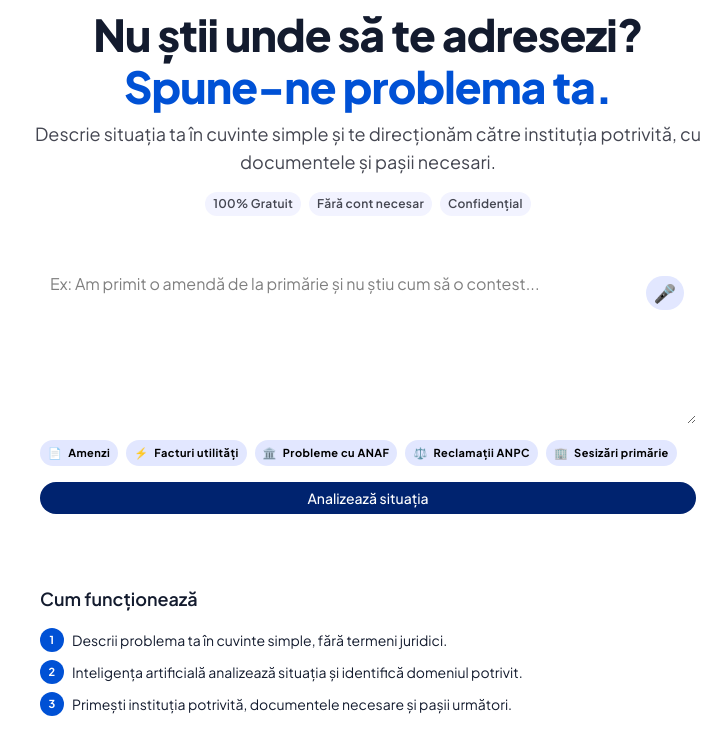
HomePage › shows the analysis-progress stepper while loading
Type "Am o problemă cu ANAF" into the text box named "Descrierea problemei" at (368, 344), box [40,264,696,424]
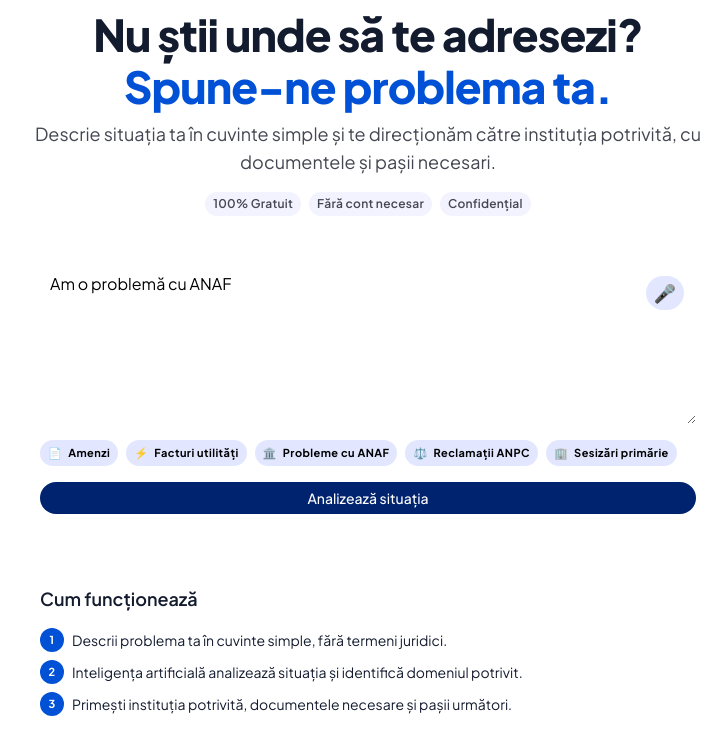
Click the button "Analizează situația" at (368, 498), box [40,482,696,514]
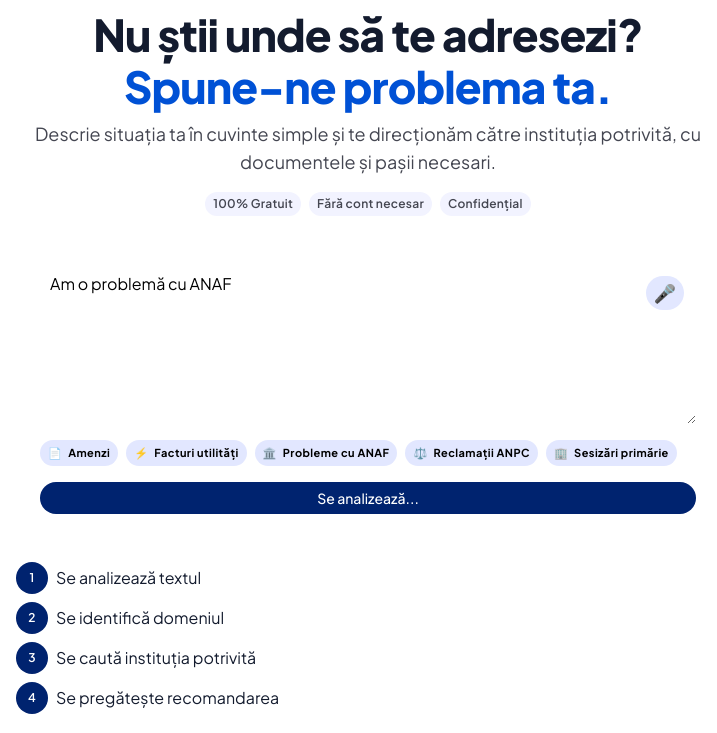
expect the message named "Analiză în curs" is shown: met, box [16,562,279,714]
